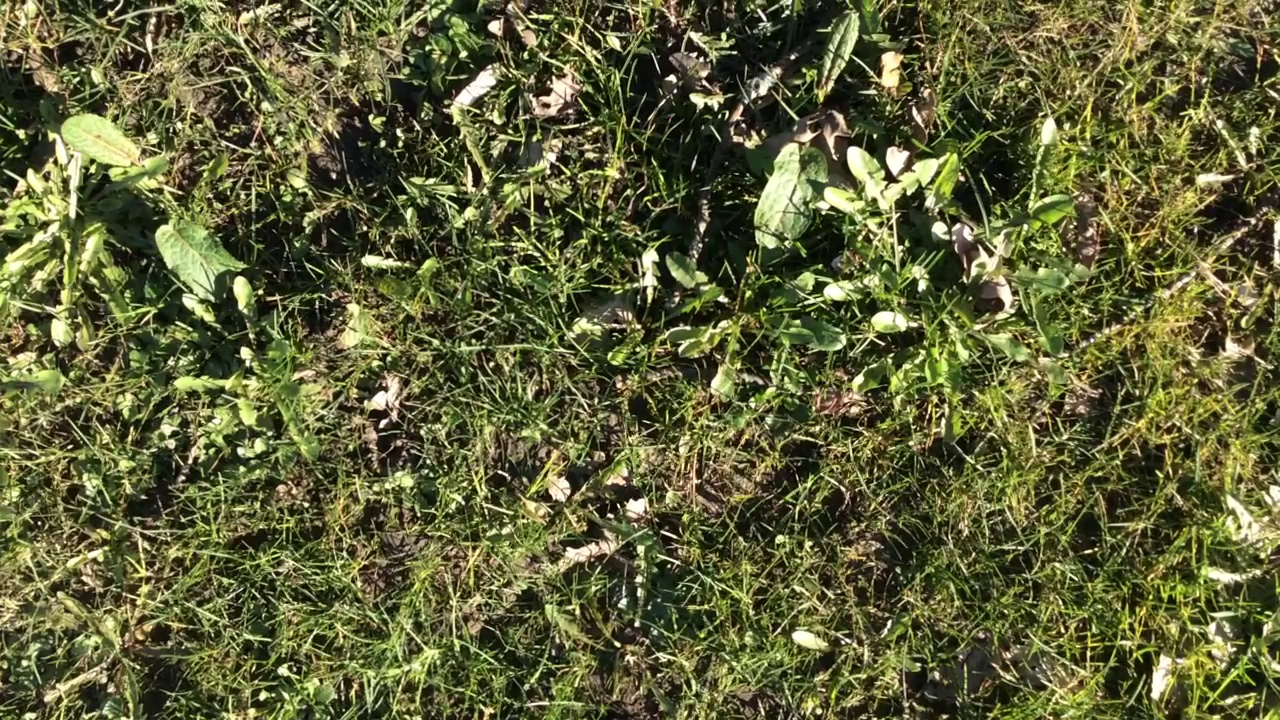rumex: (756, 147, 827, 253), (156, 219, 238, 304), (64, 116, 142, 170), (817, 10, 860, 94)
